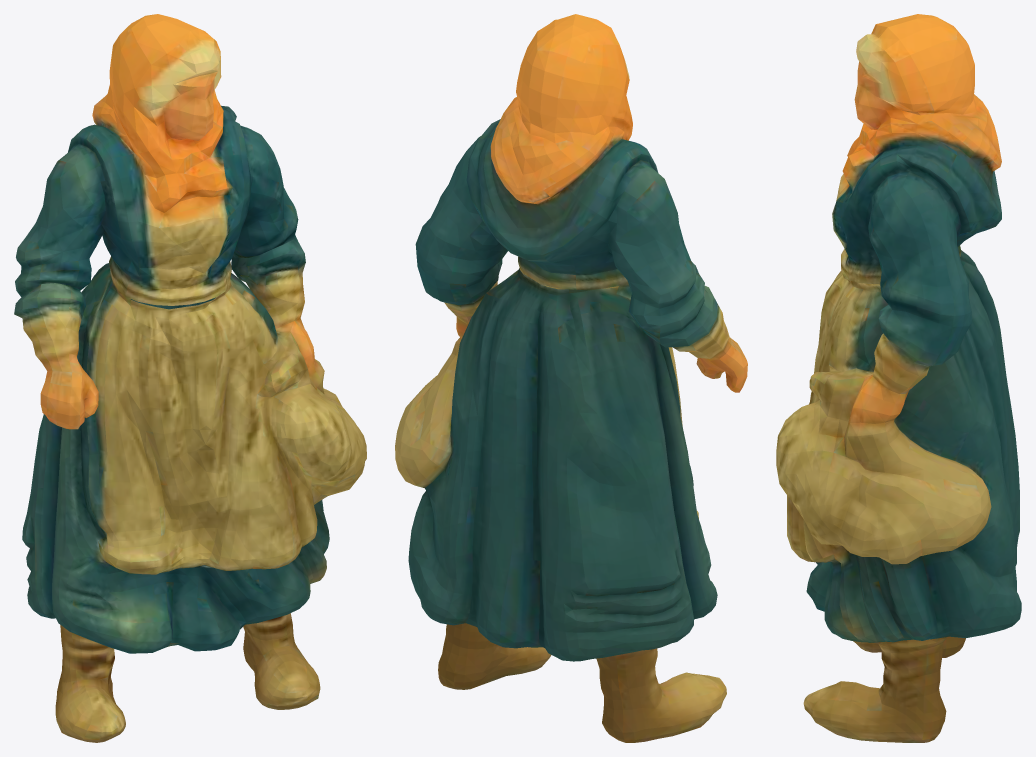
The model's file is villager_homemaker.glb.
3 renders of one model, left to right at view 1: azimuth 30°, elevation 25°; view 2: azimuth 150°, elevation 25°; view 3: azimuth 270°, elevation 25°, orthographic. The views are drawn at different scales.
Size of the model in its own units: 0.9472 by 1.91 by 0.638.
1 material, 1 textured.
